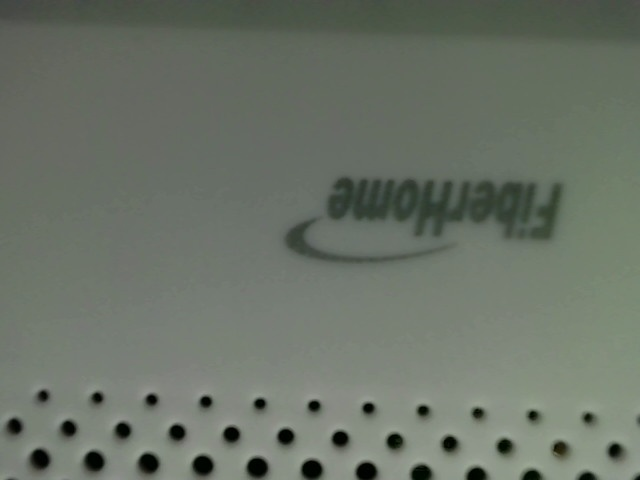AI_FiberHome: (273, 163, 576, 269)
